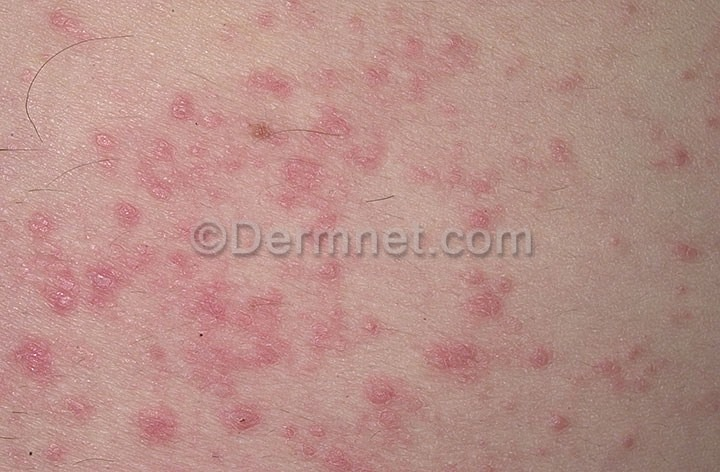Eczema: (2, 6, 719, 472)
